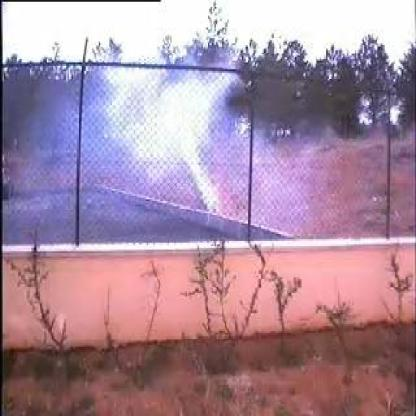-: (81, 60, 278, 243)
